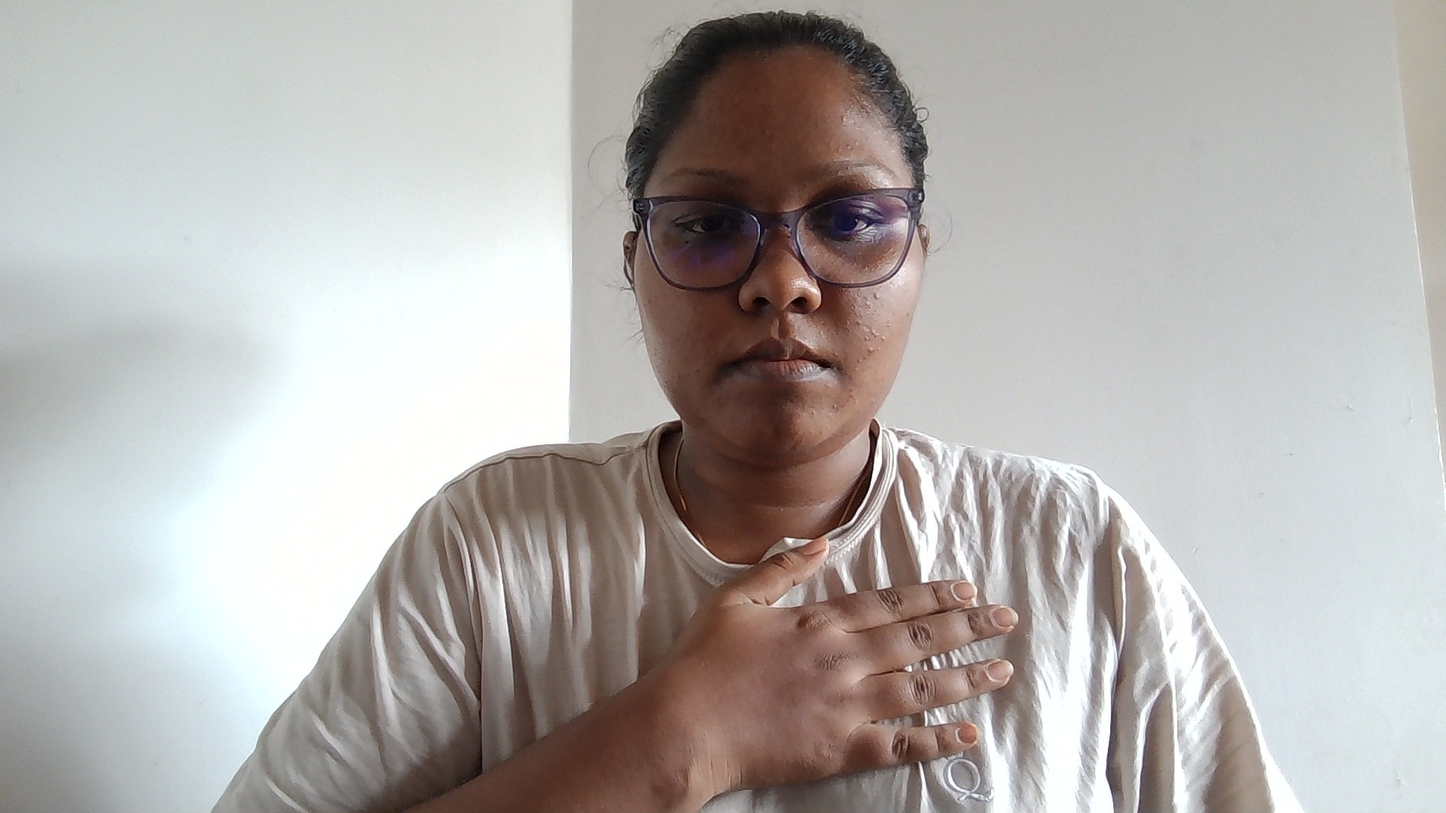Please: (523, 542, 1123, 808)
